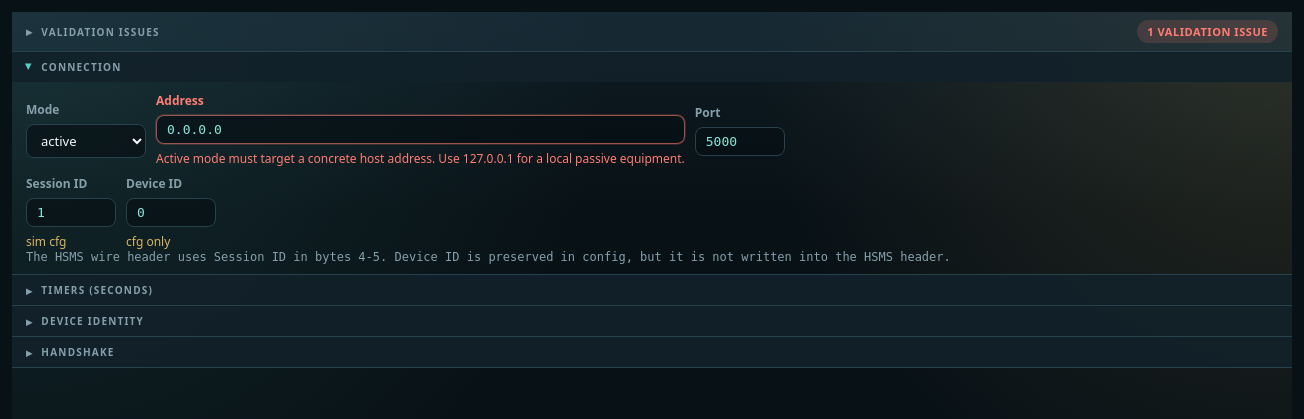
Test case: HsmsTab › flags wildcard addresses as invalid in active mode
This screenshot has width=1304, height=419.
Click the text "Validation Issues": (101, 32) 41,24 -> 160,38
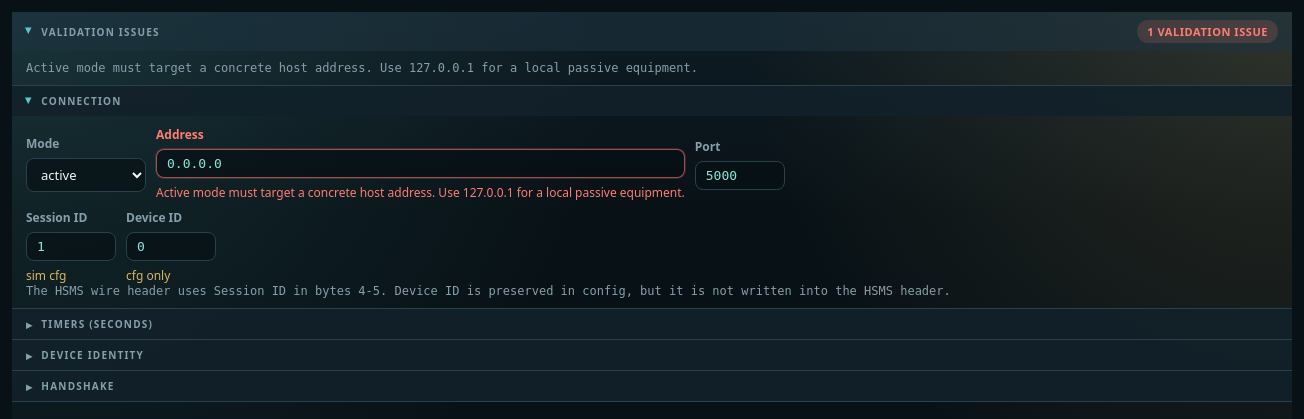
Expected: the text "Active mode must target a concrete host address. Use 127.0.0.1 for a local passive equipment." is shown 2 times, 26,61 -> 698,75; 156,184 -> 685,201
